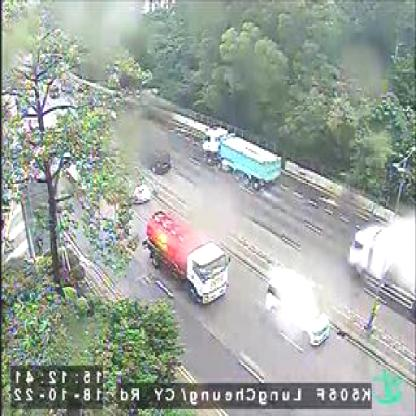Car: (144, 145, 172, 176)
Truck: (142, 208, 230, 305), (348, 223, 414, 321), (202, 126, 283, 194), (264, 268, 332, 347)
